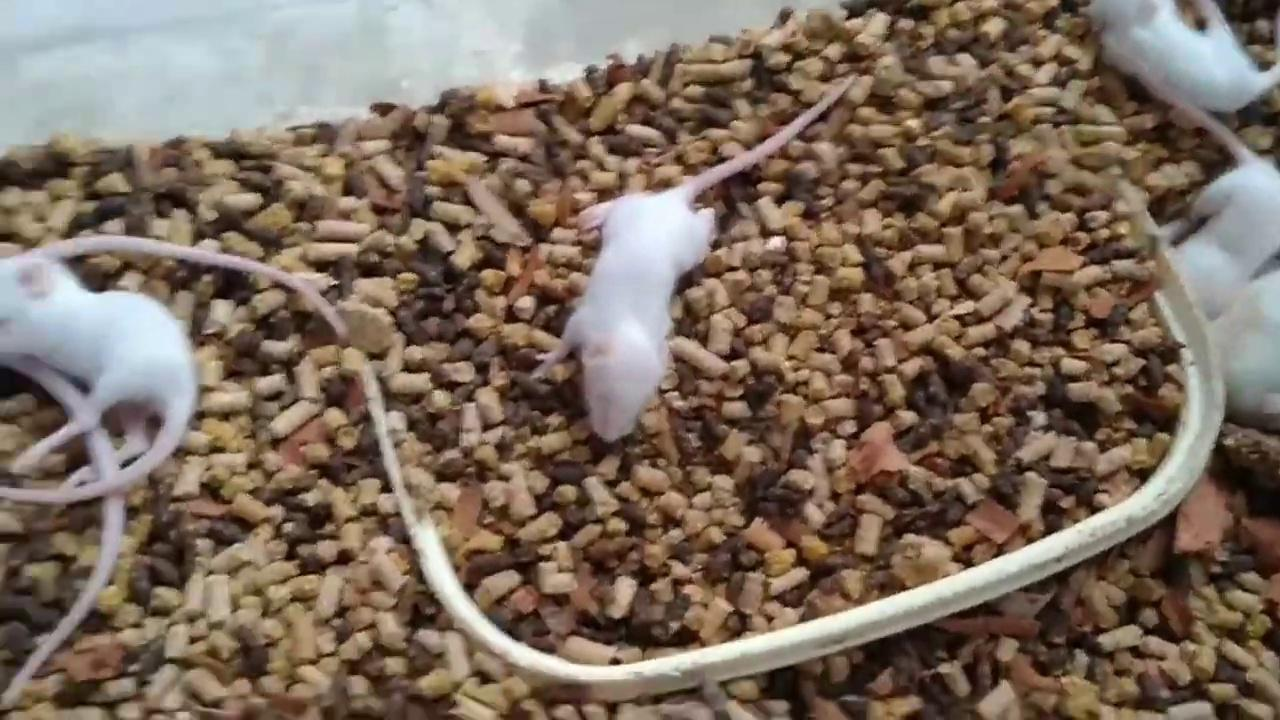rat: (536, 74, 855, 441), (0, 260, 194, 507), (1169, 111, 1280, 318), (1088, 0, 1280, 111)
